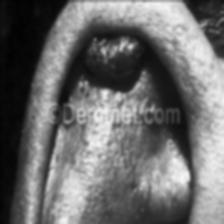Potentially Malignant Skin Tumors: (78, 31, 150, 91), (136, 98, 160, 146), (58, 100, 76, 126)
